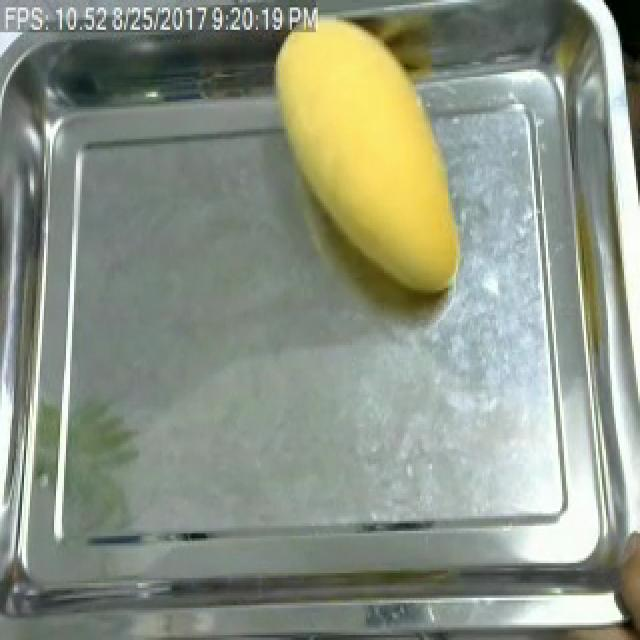fruit: (260, 5, 476, 313), (604, 511, 640, 640)
